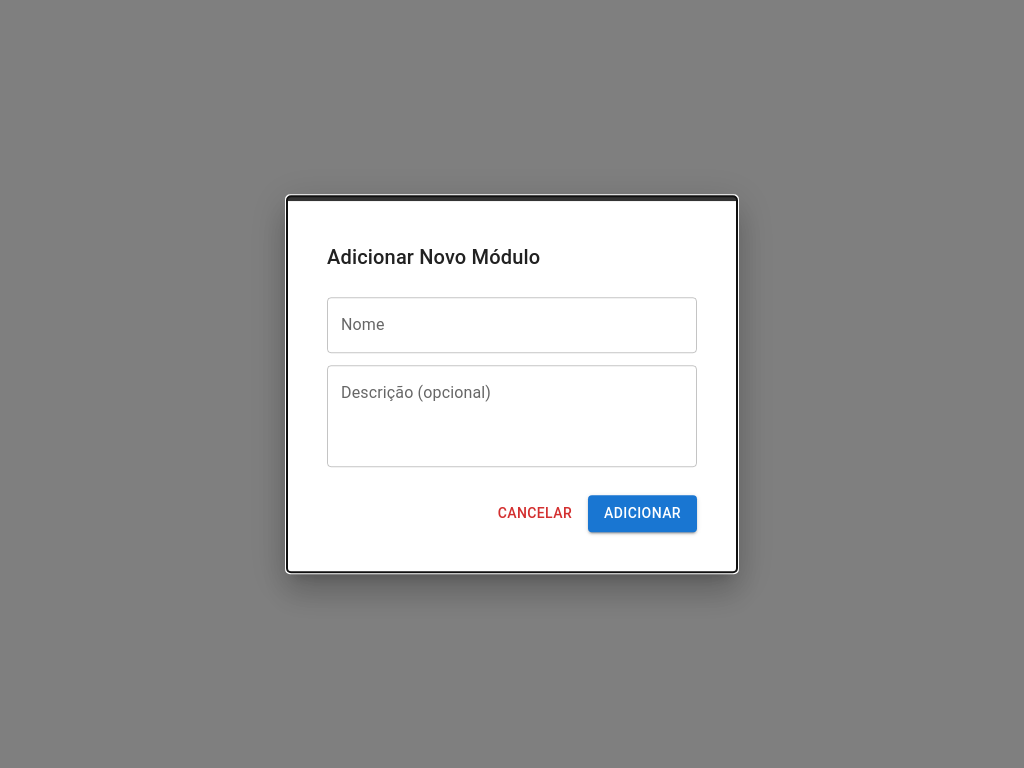
CreateModuleModal Component › should show validation error if 'Nome' is empty and submit is clicked
Step 1. Click the button "Adicionar" → {"x": 643, "y": 514}, box [588,495,697,532]
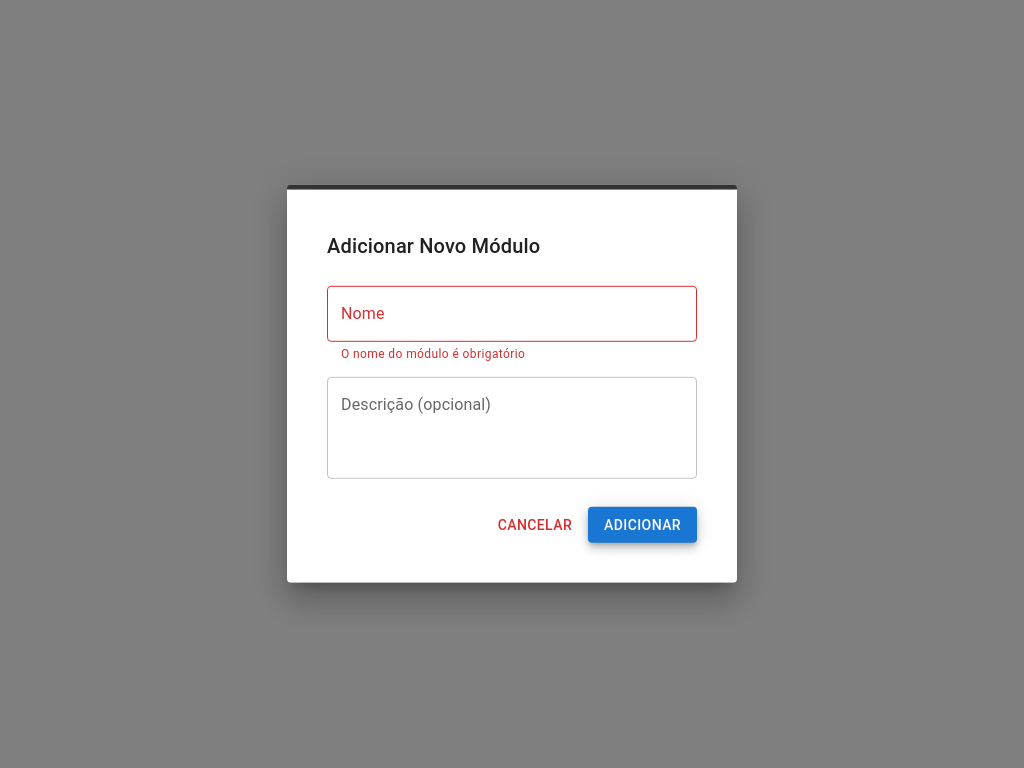
Expected: the text "O nome do módulo é obrigatório" is shown, [341,347,525,361]
